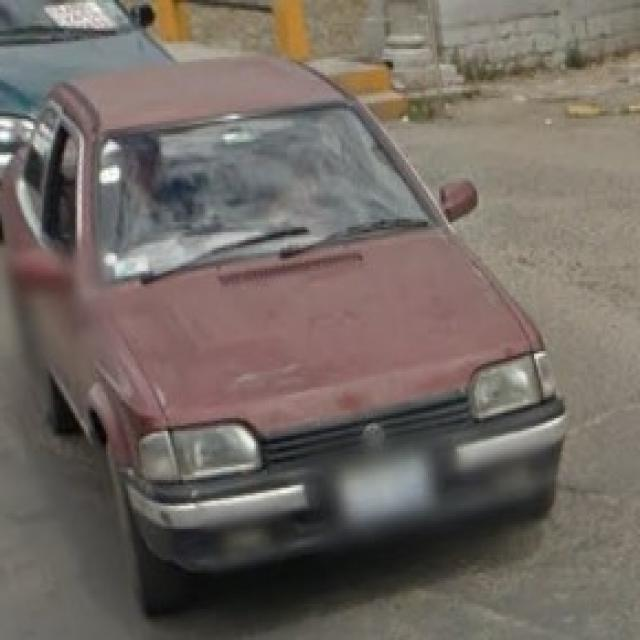car: (1, 53, 570, 615)
